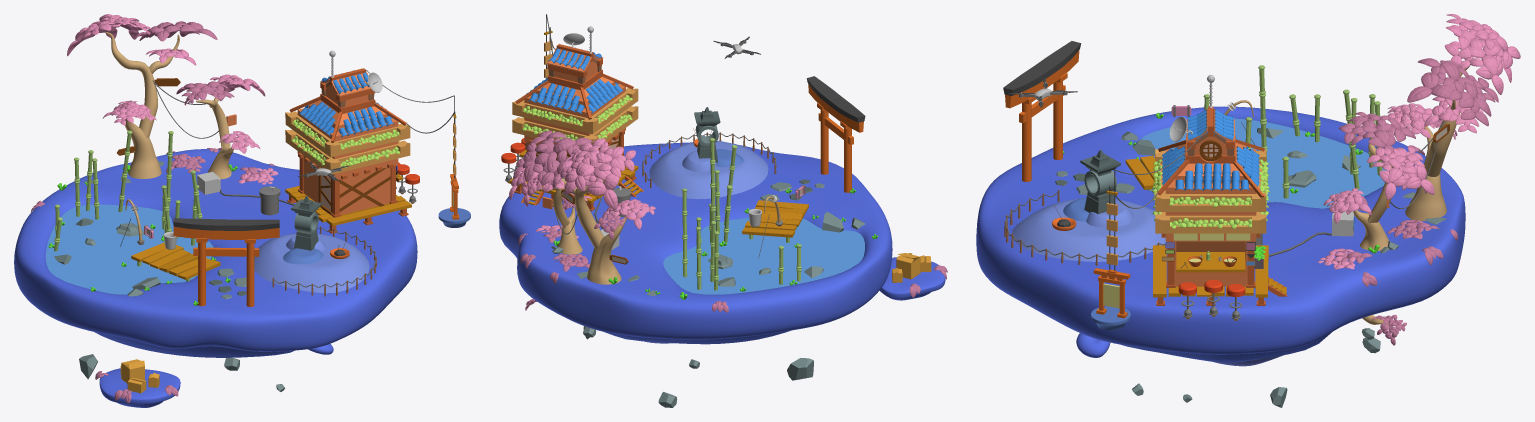
File: japan-island2.glb
3 renders of one model, left to right at view 1: azimuth 30°, elevation 25°; view 2: azimuth 150°, elevation 25°; view 3: azimuth 270°, elevation 25°, orthographic. The views are drawn at different scales.
Parts seen in each view (by area): view 1: base, house, water, leaf, land-2, bamboo, door, tree, rock, altar, signal, box (+3 smaller); view 2: base, house, water, leaf, land-2, bamboo, tree, door, rock, altar, box, feends (+3 smaller); view 3: base, house, leaf, water, land-2, door, tree, bamboo, rock, signal, altar, chest (+1 smaller).
Boxes of the visible parts, bbox=[...] form: base: bbox=[14, 149, 417, 407]; house: bbox=[152, 50, 454, 233]; water: bbox=[45, 204, 213, 294]; leaf: bbox=[30, 14, 278, 403]; land-2: bbox=[254, 233, 369, 293]; bamboo: bbox=[54, 130, 220, 281]; door: bbox=[173, 218, 279, 306]; tree: bbox=[105, 32, 233, 179]; rock: bbox=[54, 161, 284, 391]; altar: bbox=[291, 196, 349, 259]; signal: bbox=[438, 95, 470, 227]; box: bbox=[120, 359, 159, 393]; base: bbox=[499, 142, 945, 344]; house: bbox=[509, 14, 643, 250]; water: bbox=[663, 218, 864, 294]; leaf: bbox=[509, 130, 947, 312]; land-2: bbox=[649, 141, 768, 199]; bamboo: bbox=[681, 138, 808, 290]; tree: bbox=[536, 179, 630, 284]; door: bbox=[806, 76, 865, 192]; rock: bbox=[551, 179, 865, 407]; altar: bbox=[693, 107, 720, 162]; box: bbox=[892, 253, 931, 282]; feends: bbox=[642, 132, 776, 187]; base: bbox=[976, 106, 1465, 366]; house: bbox=[1109, 75, 1443, 305]; leaf: bbox=[1318, 14, 1520, 345]; water: bbox=[1141, 118, 1386, 208]; land-2: bbox=[1012, 197, 1165, 261]; door: bbox=[1003, 41, 1081, 181]; tree: bbox=[1353, 57, 1473, 324]; bamboo: bbox=[1125, 65, 1382, 198]; rock: bbox=[1055, 128, 1446, 407]; signal: bbox=[1091, 170, 1130, 330]; altar: bbox=[1052, 150, 1120, 230]; chest: bbox=[1178, 279, 1245, 319].
Bounding box in the file's own units: 9.43 × 7.03 × 9.42.
